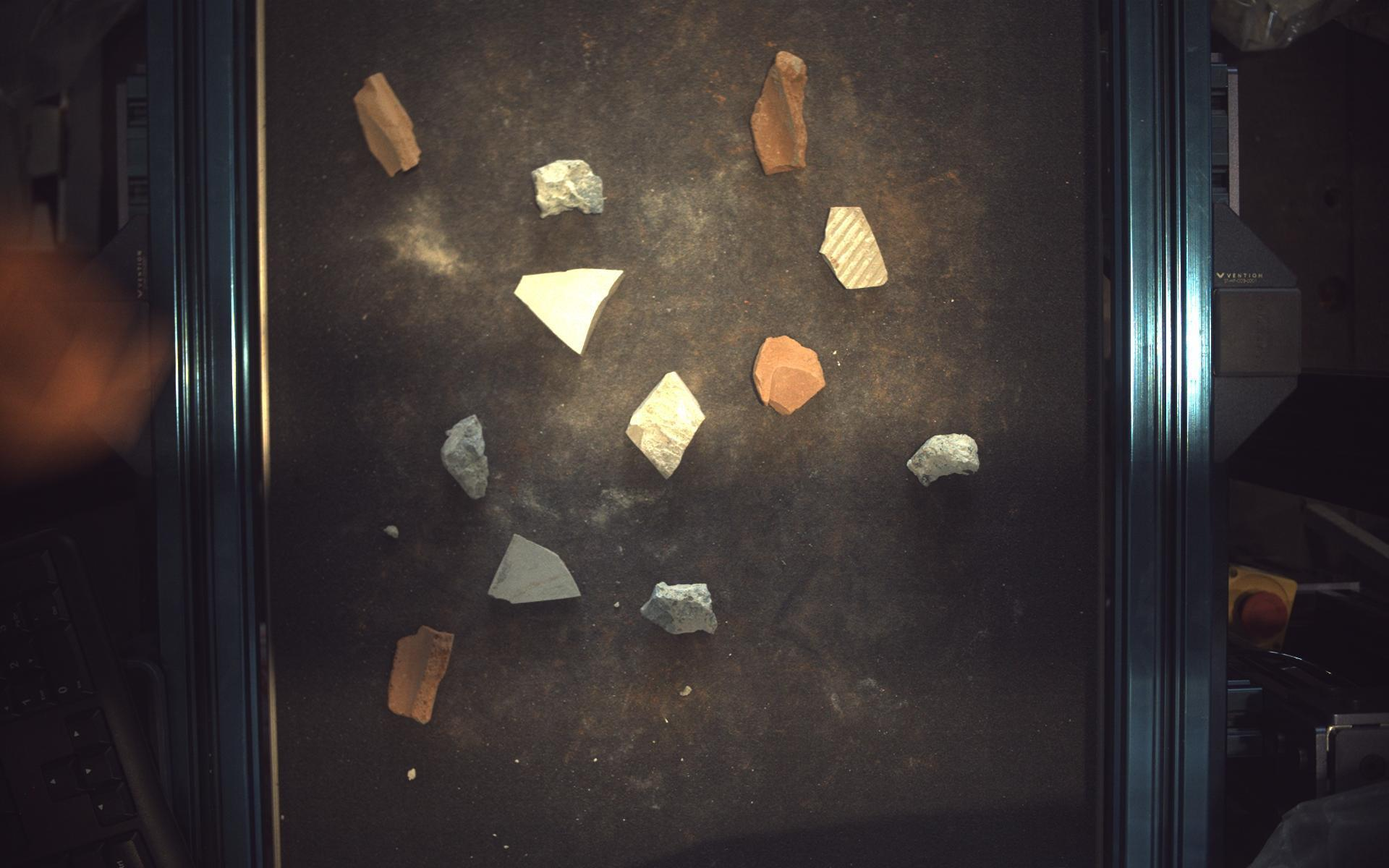brick: (752, 49, 809, 174), (353, 72, 420, 176), (388, 626, 454, 725), (755, 335, 826, 414)
concrete: (533, 158, 603, 217), (641, 582, 718, 635), (441, 414, 489, 499), (910, 434, 981, 486)
tile: (515, 268, 625, 354), (626, 372, 705, 478), (488, 535, 582, 604), (821, 206, 889, 289)
